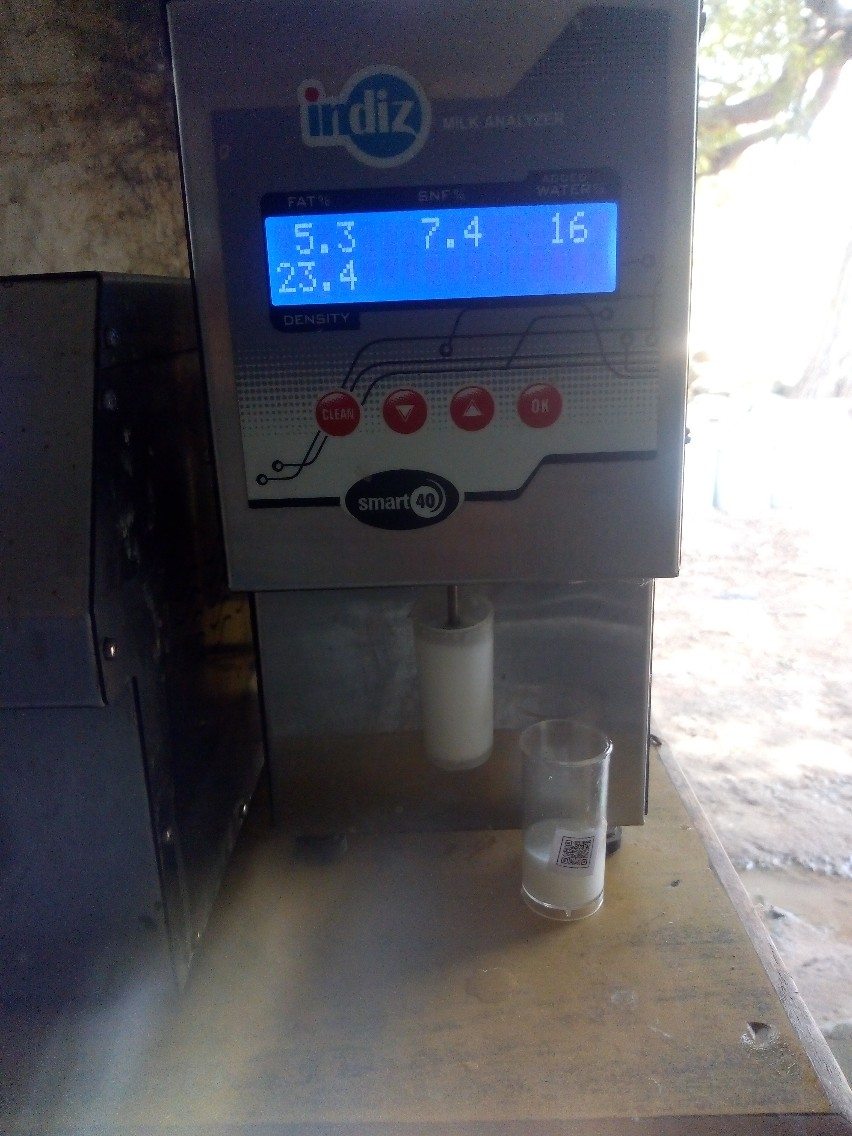lcd: (252, 185, 624, 313)
qr: (548, 823, 614, 885)
